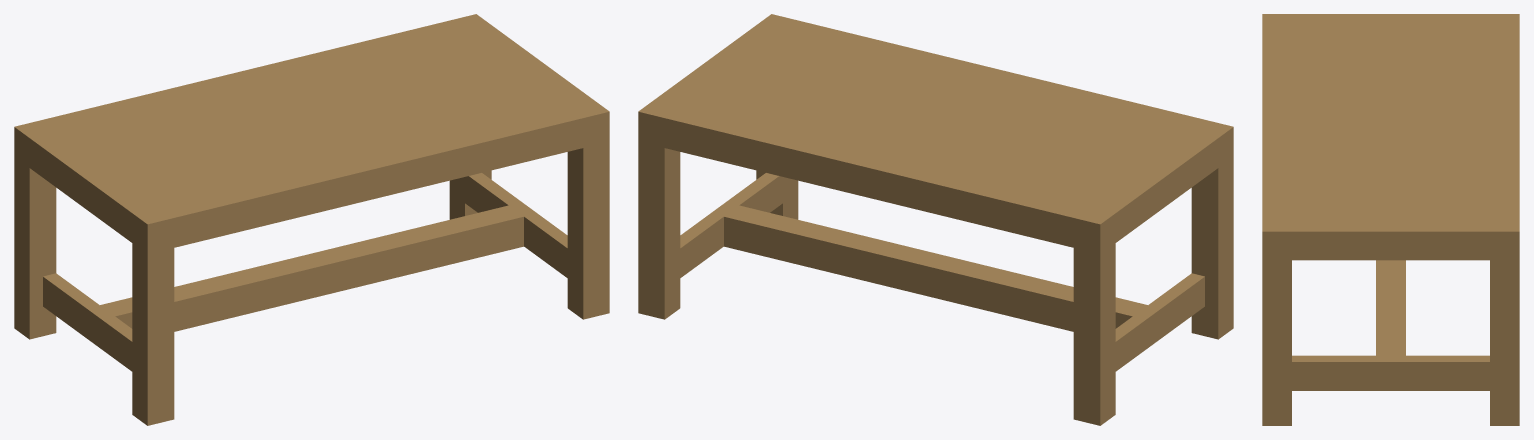
Rendered from dining_table_long.glb.
The picture shows the model from 3 angles, left to right: view 1: azimuth 30°, elevation 25°; view 2: azimuth 150°, elevation 25°; view 3: azimuth 270°, elevation 25°; orthographic projection. The views are drawn at different scales.
Visible parts, largest first — view 1: dining_table_long; view 2: dining_table_long; view 3: dining_table_long.
Part boxes in pixels (left/top/right/bottom): dining_table_long: left=14, top=14, right=609, bottom=425; dining_table_long: left=638, top=14, right=1233, bottom=425; dining_table_long: left=1262, top=14, right=1519, bottom=425.
Bounding box in the file's own units: 1.8 × 0.75 × 0.9.
